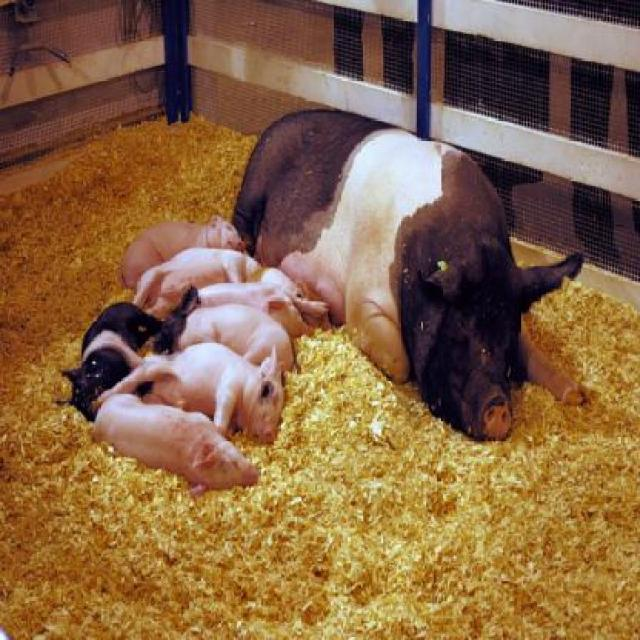pig: (56, 111, 594, 500)
